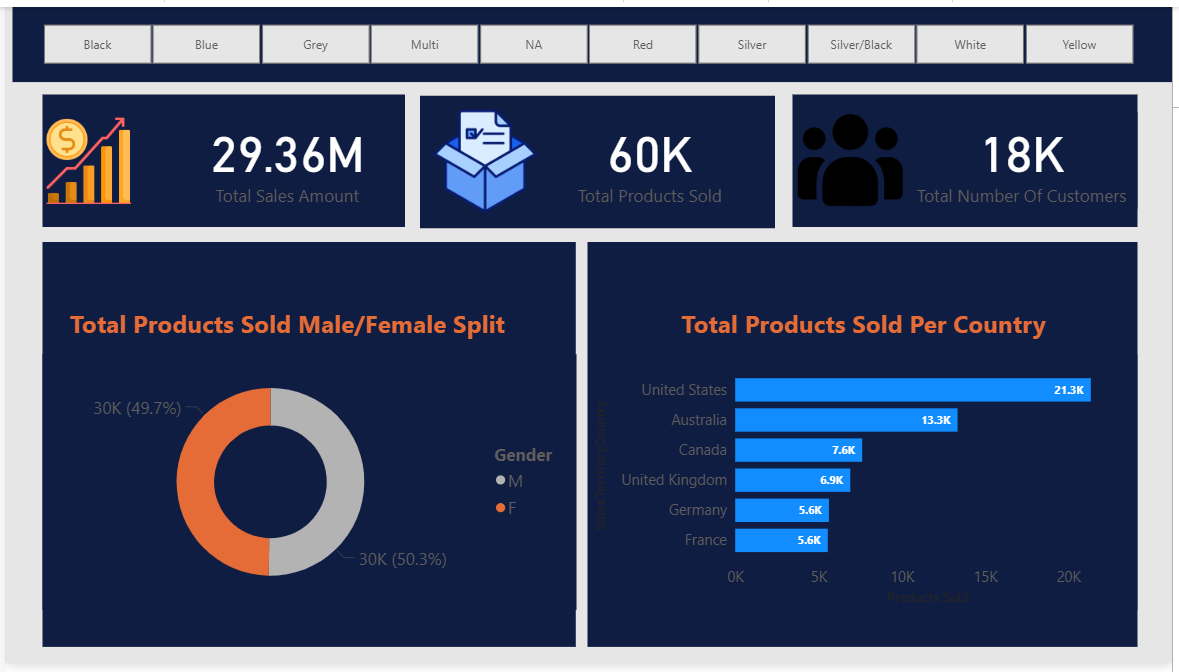

This screenshot's page, from the dashboard's own definition file:
{"tool":"powerbi","page":{"name":"Page 1","canvas":[1280,720],"ordinal":0},"visuals":[{"type":"shape","box":[8.2,0,1273.4,82.3],"z":0},{"type":"slicer","fields":{"Values":["dim_Product.Color"]},"box":[16.5,12.3,1244.6,56.3],"z":1000},{"type":"shape","box":[41.1,96,397.5,145.3],"z":2000},{"type":"shape","box":[455.1,97.3,389.3,145.3],"z":3000},{"type":"shape","box":[863.6,96,378.3,145.3],"z":4000},{"type":"image","box":[0,116.5,183.7,105.5],"z":5000},{"type":"card","fields":{"Values":["#Measures.TotalSalesAmount"]},"box":[183.7,115.1,252.2,105.5],"z":6000},{"type":"card","fields":{"Values":["#Measures.Customers"]},"box":[988.3,115.1,253.6,105.5],"z":7000},{"type":"card","fields":{"Values":["#Measures.ProductSold"]},"box":[581.2,115.1,252.2,105.5],"z":8000},{"type":"image","box":[370.1,105.5,312.5,127.5],"z":9000},{"type":"image","box":[762.1,105.5,329,124.7],"z":10000},{"type":"shape","box":[41.1,257.7,585,444.1],"z":11000},{"type":"shape","box":[638.8,257.7,603.1,444.1],"z":12000},{"type":"donutChart","fields":{"Y":["#Measures.ProductSold"],"Category":["dim_Customer.Gender"]},"box":[41.1,381.1,585.3,279.6],"z":13000},{"type":"textbox","box":[688.1,323.5,507.2,57.6],"z":14000},{"type":"textbox","box":[56.2,323.5,507.2,57.6],"z":15000},{"type":"barChart","fields":{"Category":["dim_SalesTeritory.SalesTerritoryCountry"],"Y":["#Measures.ProductSold"]},"box":[640.1,381.1,601.8,279.6],"z":16000}]}

Visuals, with their boxes in screenshot pixels (x1, y1, x2, y2), scaled from the page's 1280x720 canvas onto the 1179x672 screenshot:
shape: 8:0:1178:77
slicer - dim_Product.Color: 15:11:1162:64
shape: 38:90:404:225
shape: 419:91:778:226
shape: 795:90:1144:225
image: 0:109:169:207
card - #Measures.TotalSalesAmount: 169:107:402:206
card - #Measures.Customers: 910:107:1144:206
card - #Measures.ProductSold: 535:107:768:206
image: 341:98:629:217
image: 702:98:1005:215
shape: 38:241:577:655
shape: 588:241:1144:655
donutChart - #Measures.ProductSold x dim_Customer.Gender: 38:356:577:617
textbox: 634:302:1101:356
textbox: 52:302:519:356
barChart - dim_SalesTeritory.SalesTerritoryCountry x #Measures.ProductSold: 590:356:1144:617
